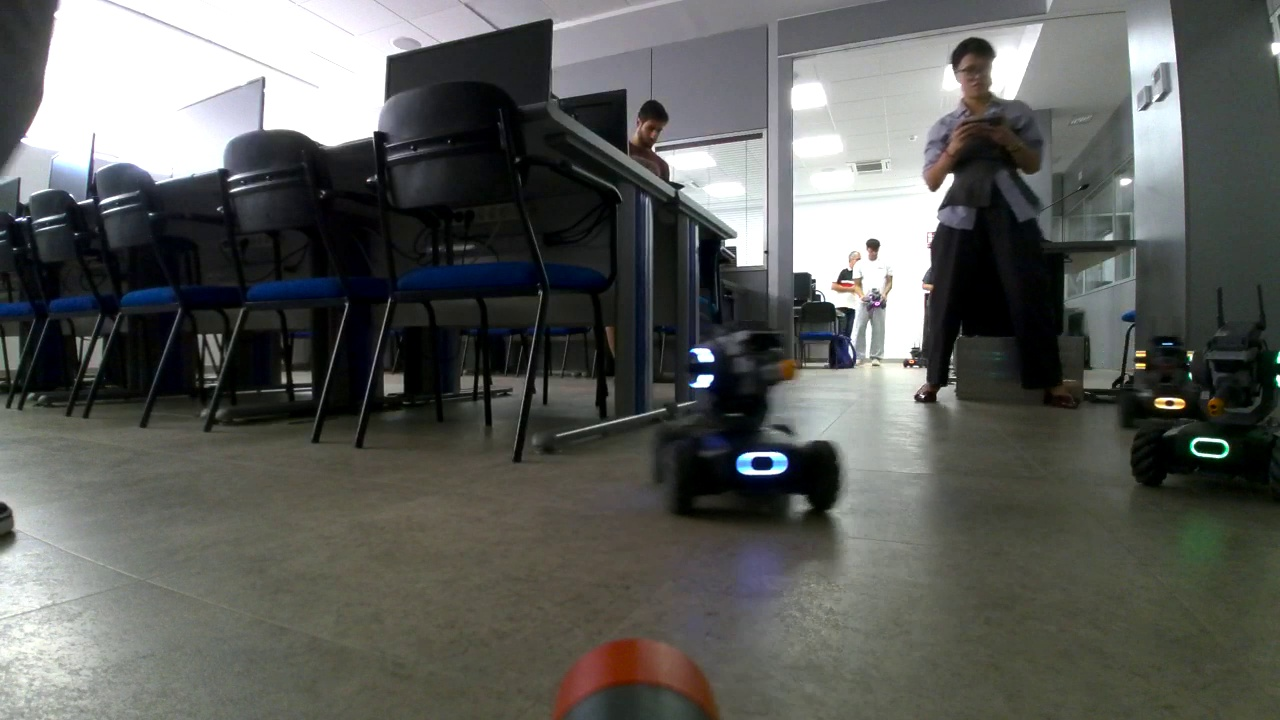robot: (647, 300, 841, 515), (1129, 288, 1280, 489), (1115, 310, 1211, 427), (903, 340, 928, 369), (863, 286, 888, 310)
